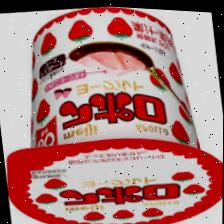plastic: (0, 0, 224, 224), (9, 137, 223, 224)
